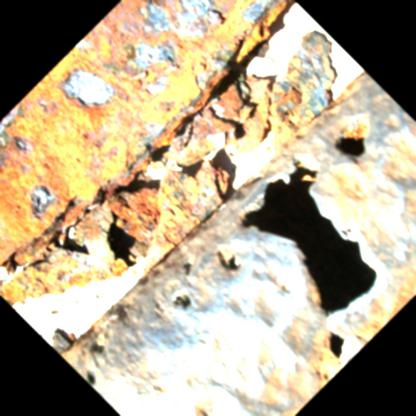burst: (226, 172, 394, 314)
